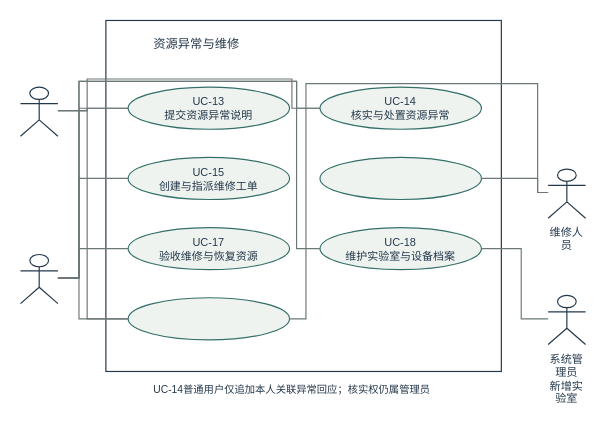
Some shapes in this 606 by 427 pixel diagram are drawn without their labels. The centre of each missing label's shape, as x and y in pixels:
UC-16 处理维修任务: point 400,177
UC-25 提交与读取异常证据: point 208,318
学生、教师: point 38,111
实验室 管理员: point 38,278
